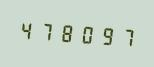eight: (56, 18, 74, 46)
four: (17, 15, 35, 44)
nine: (94, 21, 112, 49)
seven: (36, 17, 54, 45), (113, 22, 131, 50)
zero: (75, 19, 93, 48)
